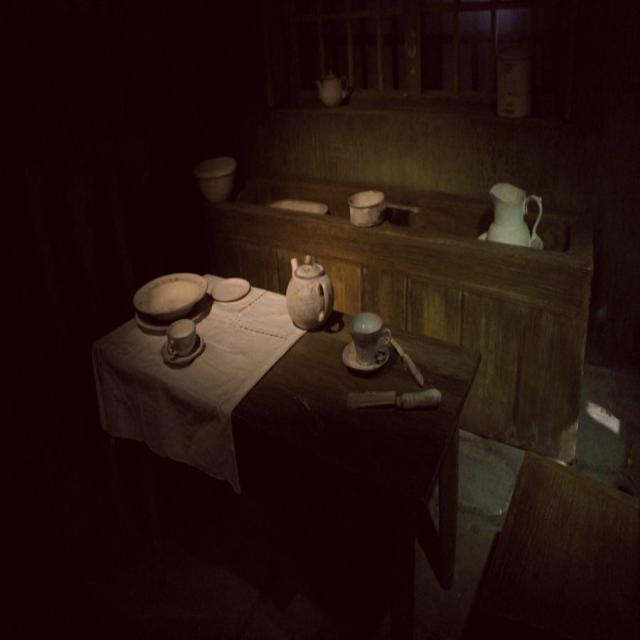Cup: (344, 308, 395, 385), (163, 310, 211, 383)
Table: (83, 255, 485, 625)
